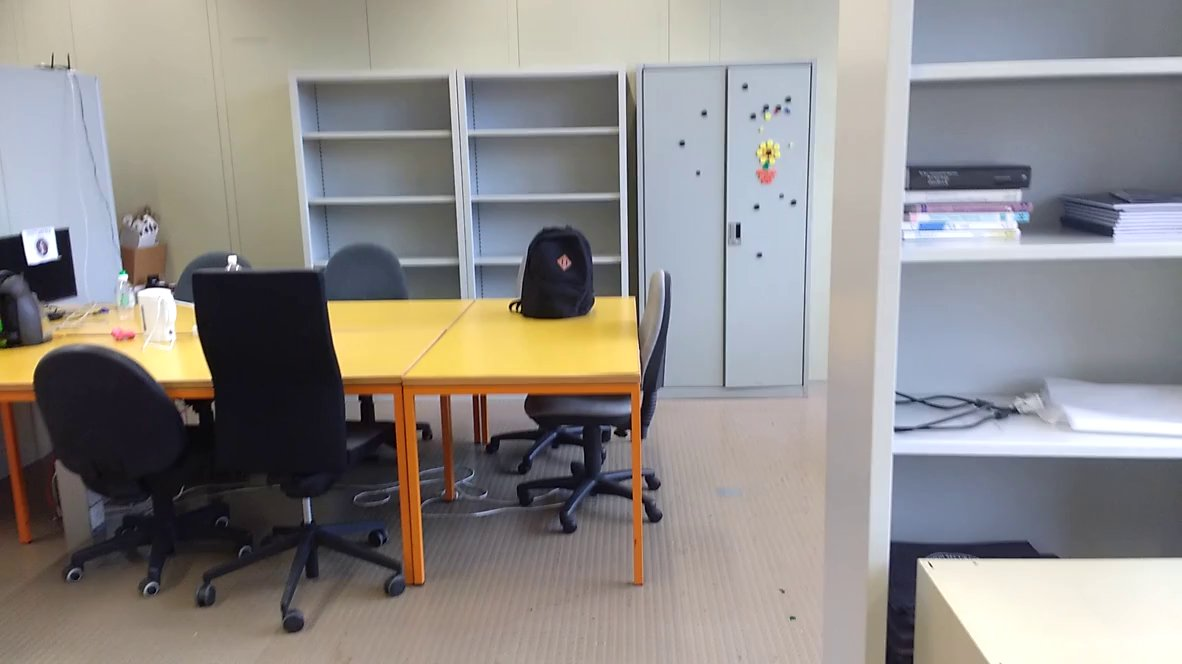bag: (507, 219, 601, 324)
chair: (177, 261, 416, 624), (28, 341, 255, 616), (524, 242, 691, 526), (309, 240, 422, 316)
